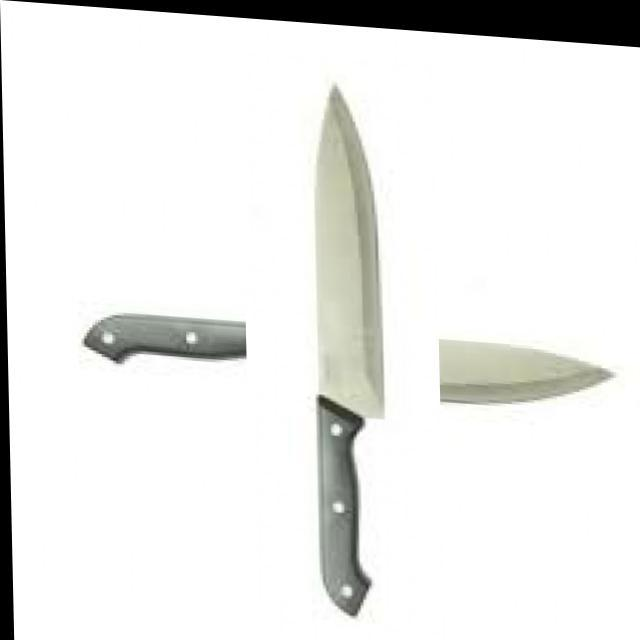knife: (80, 310, 616, 409), (310, 84, 373, 620)
